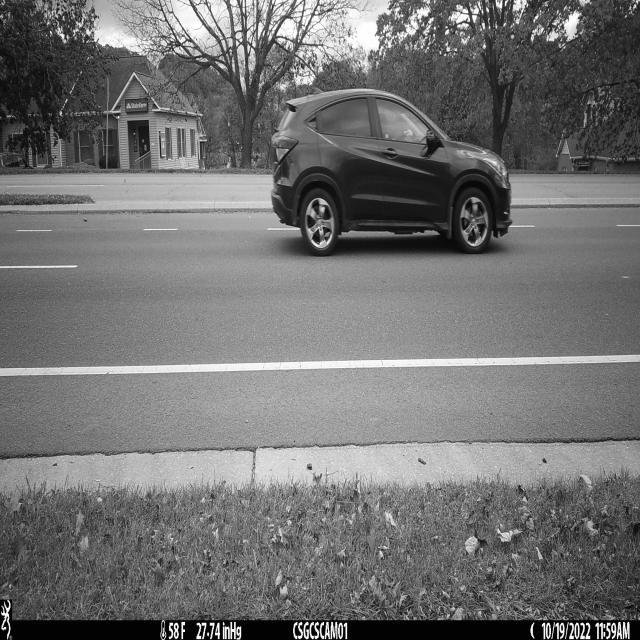SUV: (270, 89, 513, 258)
